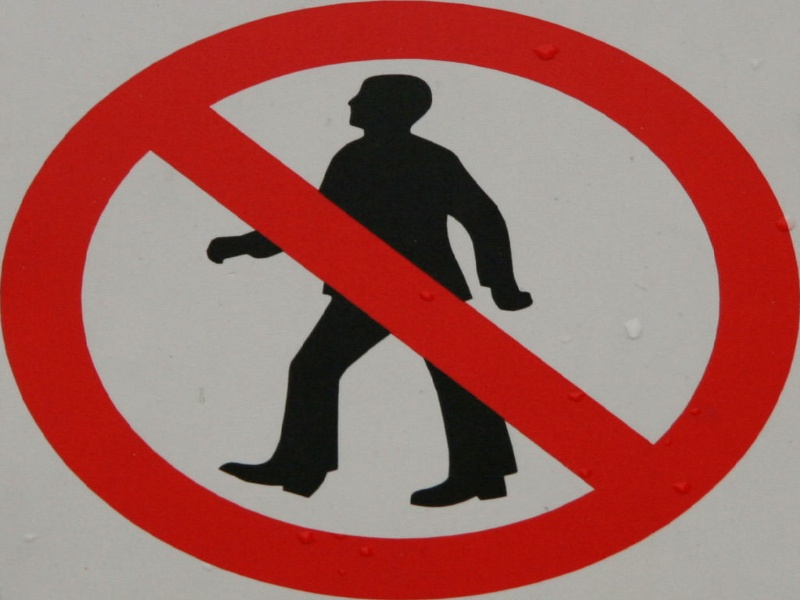pedestrian_crossing_red: (1, 3, 798, 596)
